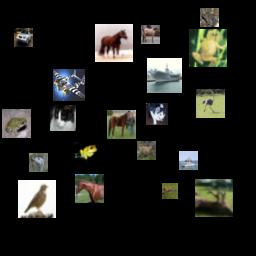airplane: (53, 69, 85, 101)
automobile: (14, 28, 33, 47)
bird: (18, 180, 56, 218), (196, 89, 225, 118), (29, 153, 48, 172), (162, 183, 178, 199)
cat: (50, 105, 76, 131), (146, 103, 168, 125)
deer: (195, 179, 233, 217), (137, 141, 156, 160)
frog: (189, 29, 227, 67), (2, 109, 31, 138), (74, 142, 100, 168), (200, 8, 219, 27)
ship: (147, 58, 182, 93), (179, 151, 198, 170)
